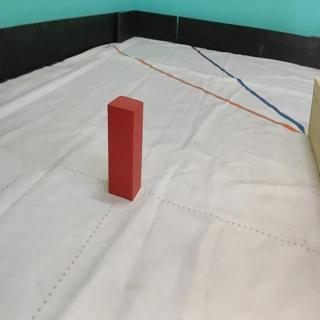redbox: (107, 95, 142, 202)
